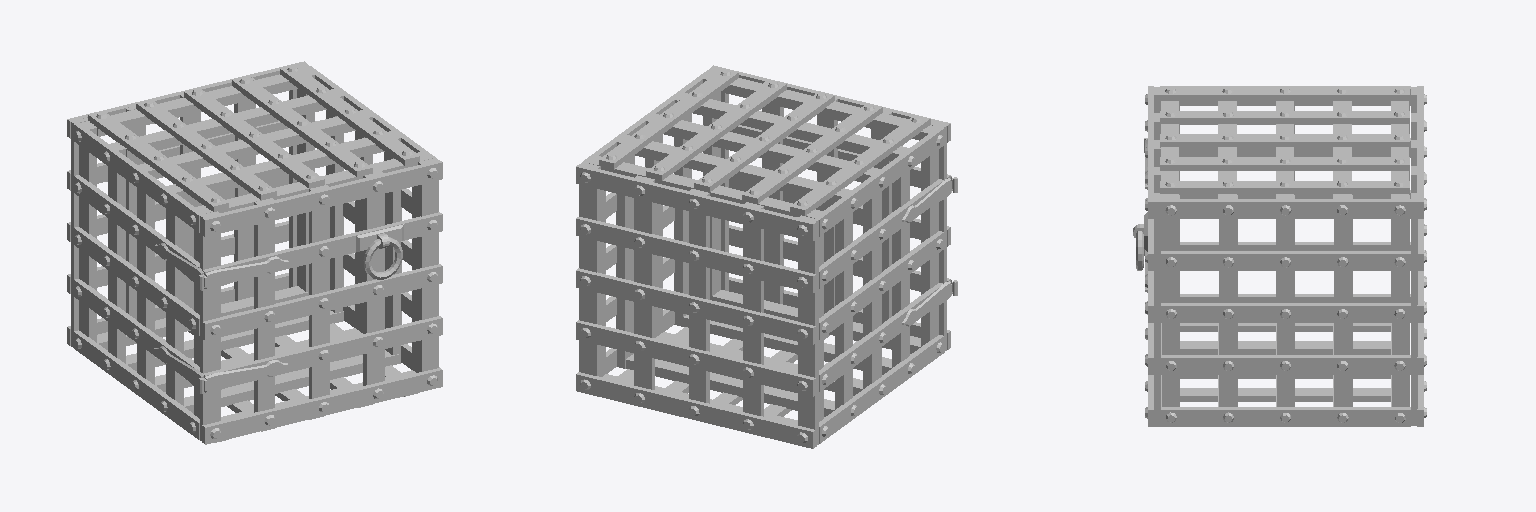
File: Cage_Small.obj
The picture shows the model from 3 angles: view 1: azimuth 30°, elevation 25°; view 2: azimuth 150°, elevation 25°; view 3: azimuth 270°, elevation 25°; orthographic projection.
Parts seen in each view (by area): view 1: Cage_Small_Cylinder.014; view 2: Cage_Small_Cylinder.014; view 3: Cage_Small_Cylinder.014.
Part boxes in pixels (x1,y1,x2,y2): Cage_Small_Cylinder.014: (67, 61, 442, 444); Cage_Small_Cylinder.014: (576, 65, 957, 448); Cage_Small_Cylinder.014: (1133, 86, 1426, 426).
Bounding box in the file's own units: 0.8549 × 0.8052 × 0.8843.